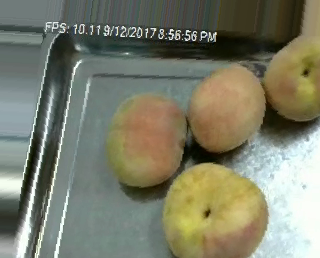Peach: (161, 163, 268, 256), (108, 92, 187, 188), (188, 64, 265, 153), (263, 29, 319, 119)
